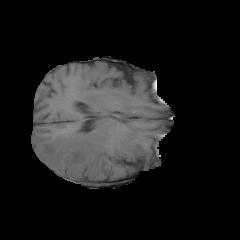glioma: (41, 130, 117, 180)
